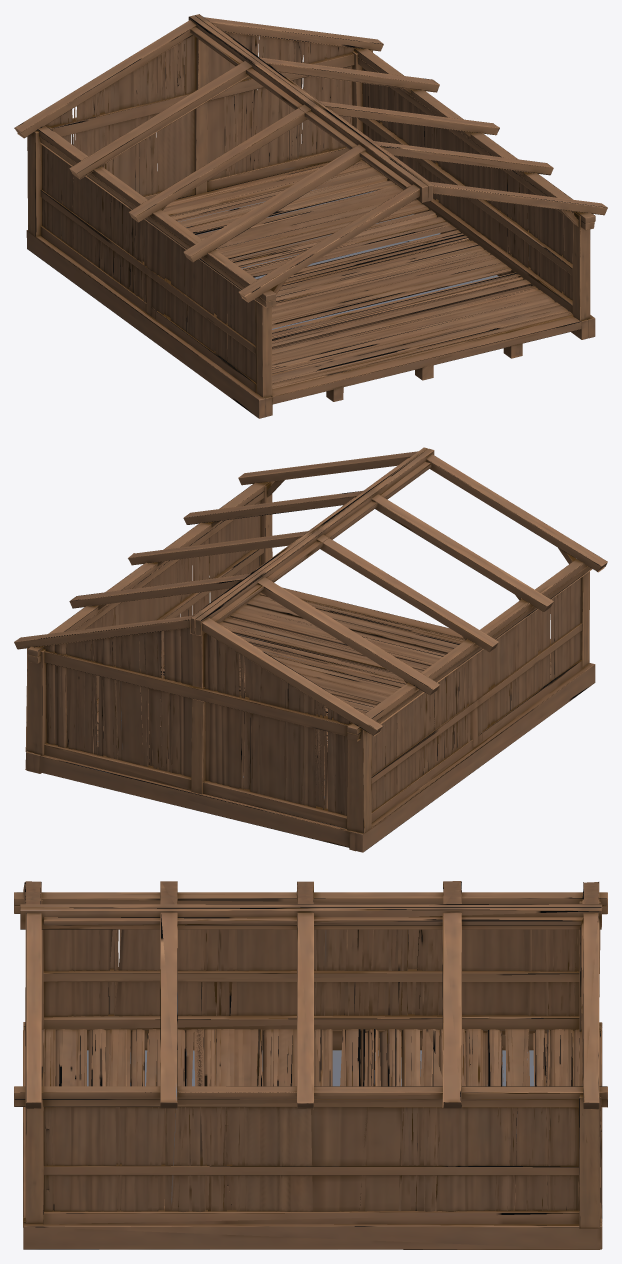
Rendered from wooden_cabin_spacious (2).glb.
3 renders of one model, top to bottom at view 1: azimuth 30°, elevation 25°; view 2: azimuth 150°, elevation 25°; view 3: azimuth 270°, elevation 25°, orthographic. The views are drawn at different scales.
Parts seen in each view (by area): view 1: geometry_0; view 2: geometry_0; view 3: geometry_0.
Part boxes in pixels (x1,y1,x2,y2): geometry_0: [14, 14, 607, 418]; geometry_0: [14, 447, 607, 852]; geometry_0: [14, 881, 607, 1249].
Size of the model in its own units: 23.6 by 12 by 26.71.
1 material, 1 textured.
